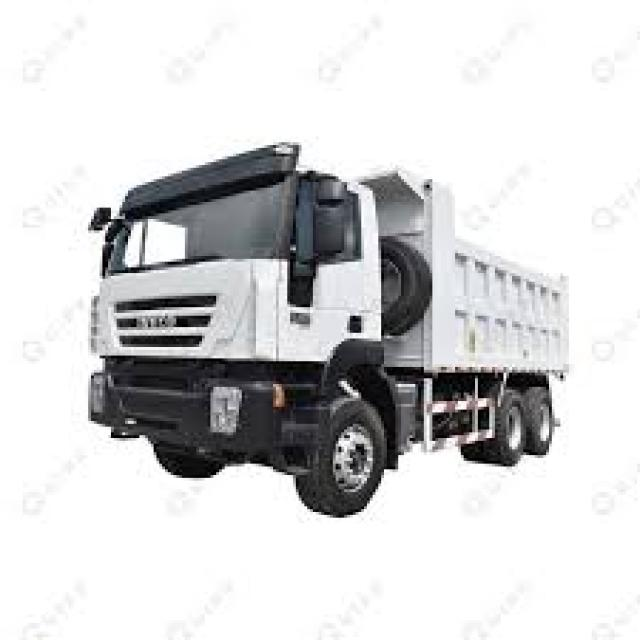dump_truck: (66, 140, 584, 526)
